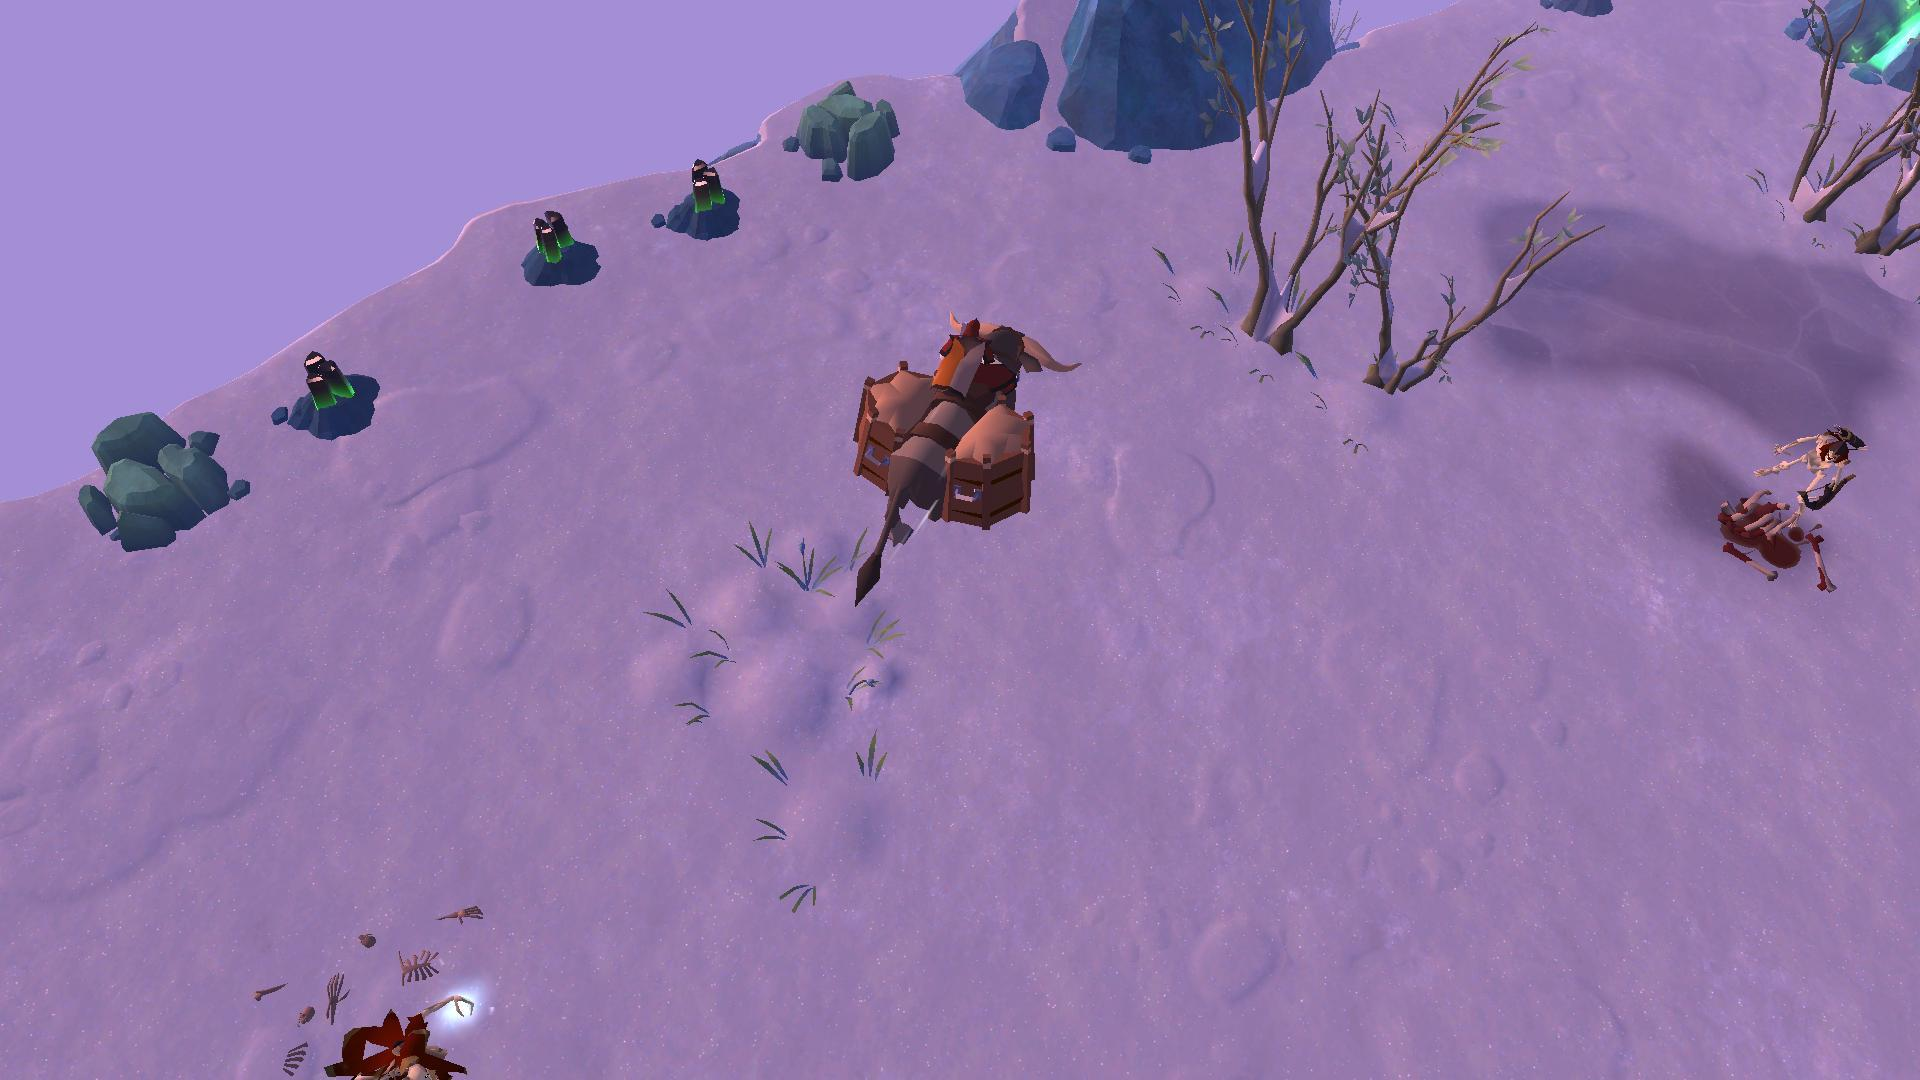enemy_factionUndead: (328, 993, 469, 1080), (1760, 427, 1857, 509)
ore_t3: (301, 340, 356, 414), (524, 196, 576, 269), (684, 156, 732, 219)
rock_t3: (73, 405, 252, 541), (786, 76, 911, 183)
